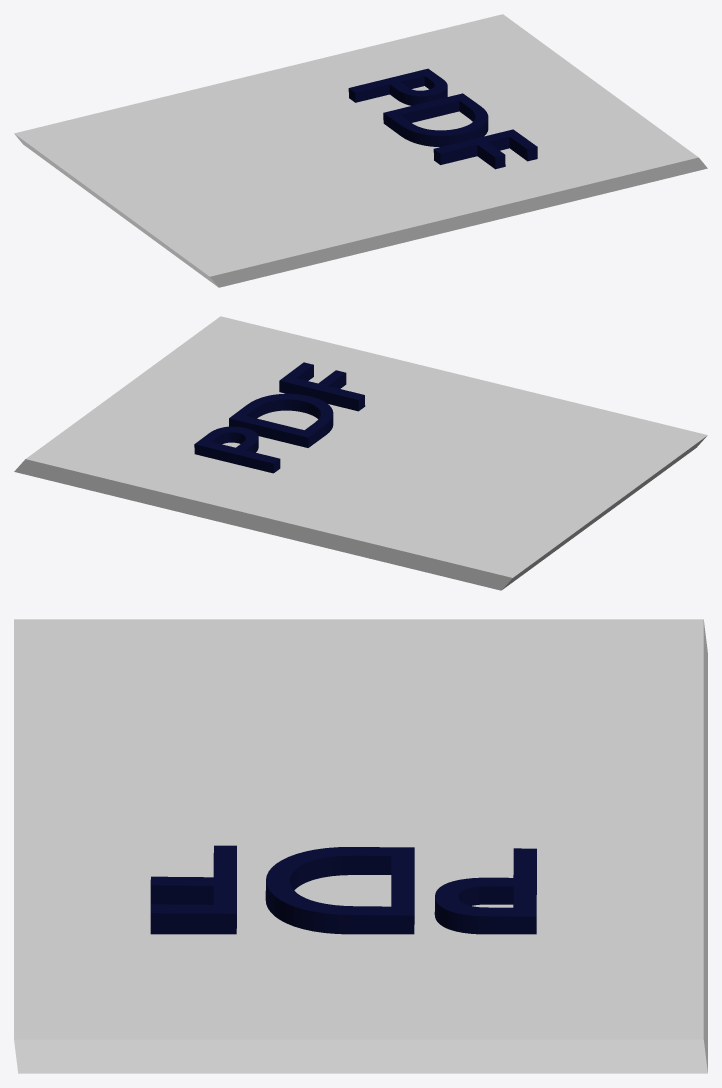
Rendered from pdf-white.glb.
The picture shows the model from 3 angles, top to bottom: view 1: azimuth 30°, elevation 25°; view 2: azimuth 150°, elevation 25°; view 3: azimuth 270°, elevation 25°; orthographic projection. The views are drawn at different scales.
Parts seen in each view (by area): view 1: Cube, PDF; view 2: Cube, PDF; view 3: Cube, PDF.
Part boxes in pixels (x1,y1,x2,y2): Cube: (14,14,707,287); PDF: (348,68,537,169); Cube: (14,316,707,590); PDF: (194,362,365,473); Cube: (14,619,707,1073); PDF: (150,845,536,934).
Size of the model in its own units: 0.1639 by 0.00831 by 0.1121.
